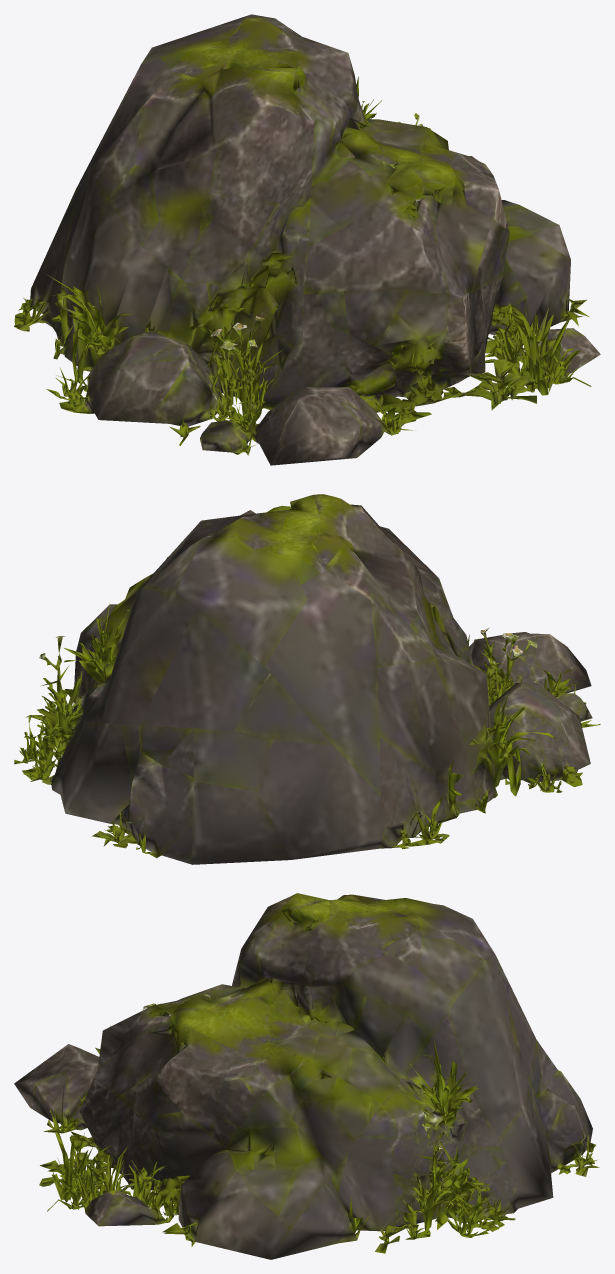
File: rock_lod1.glb
The picture shows the model from 3 angles, top to bottom: view 1: azimuth 30°, elevation 25°; view 2: azimuth 150°, elevation 25°; view 3: azimuth 270°, elevation 25°; orthographic projection. The views are drawn at different scales.
Bounding box in the file's own units: 2.54 × 1.24 × 2.74.
1 material, 1 textured.
